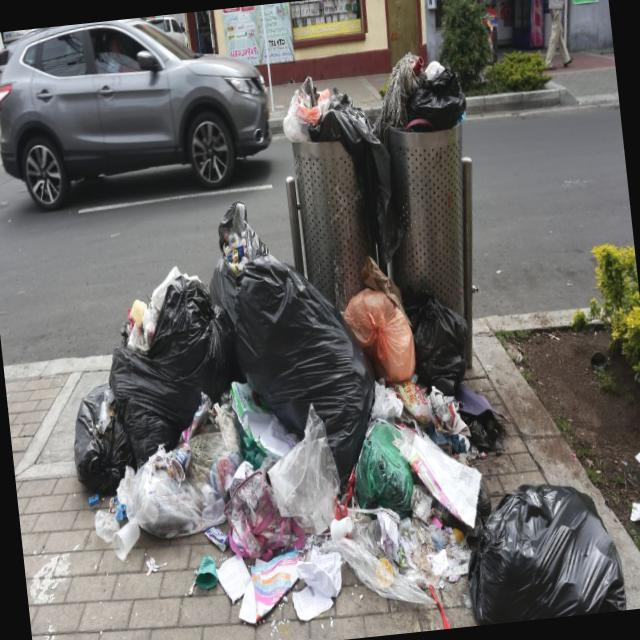garbage: (36, 42, 524, 530), (458, 460, 626, 626)
